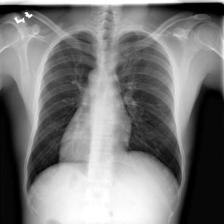normal: (21, 24, 184, 201)
